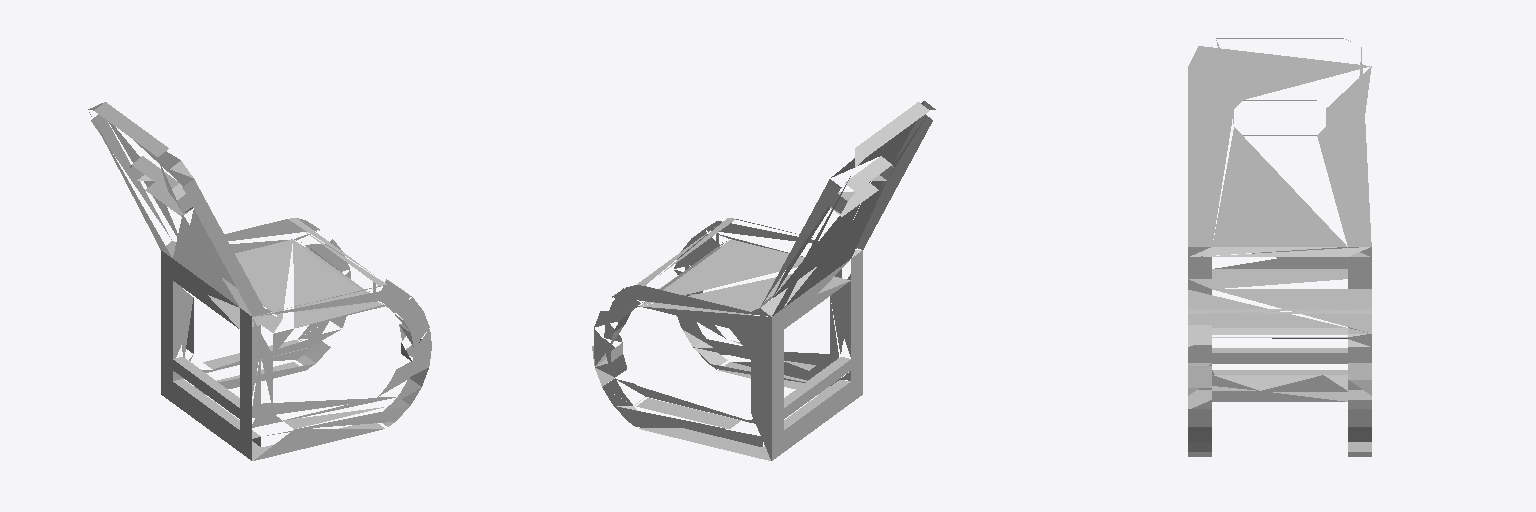
The model's file is chair_packed_reduced_1672438029.9470644.rr.obj.
3 renders of one model, left to right at view 1: azimuth 30°, elevation 25°; view 2: azimuth 150°, elevation 25°; view 3: azimuth 270°, elevation 25°, orthographic.
Visible parts, largest first — view 1: Mesh_0; view 2: Mesh_0; view 3: Mesh_0.
Part boxes in pixels (bbox=[...]): Mesh_0: bbox=[88, 102, 431, 460]; Mesh_0: bbox=[592, 101, 935, 460]; Mesh_0: bbox=[1188, 38, 1371, 456].
Bounding box in the file's own units: 0.9998 × 1.17 × 0.61.